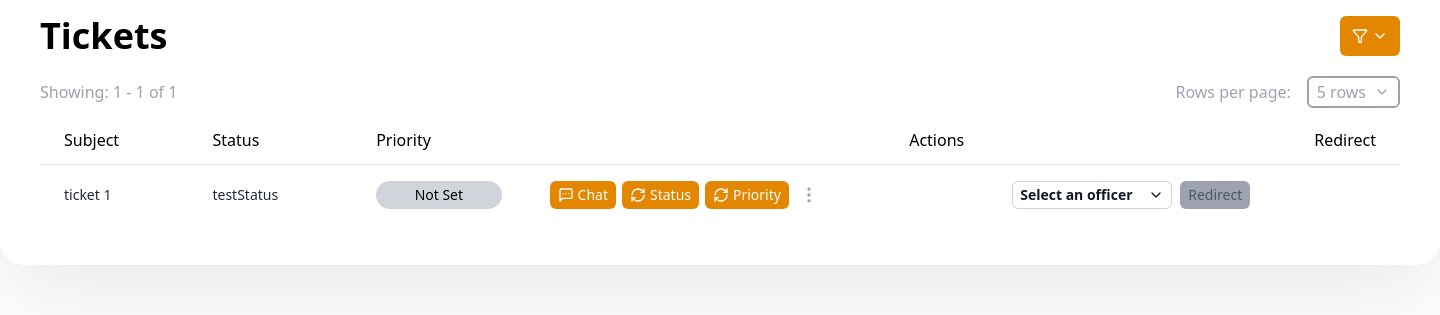
TicketsCard - rendering › Tickets Card should display extra table headings if the user is an officer
Expected: the button "Chat" is shown, top-left (550, 181), bottom-right (616, 209)
Expected: the button with test id "toggle-status" is shown, top-left (622, 181), bottom-right (699, 209)
Note: Open the More Actions dropdown
What coordinates should you click on to do the following:
click the button with test id "more-actions-dropdown"
I would click on:
 (809, 195)
Its box is top-left (795, 181), bottom-right (823, 209).
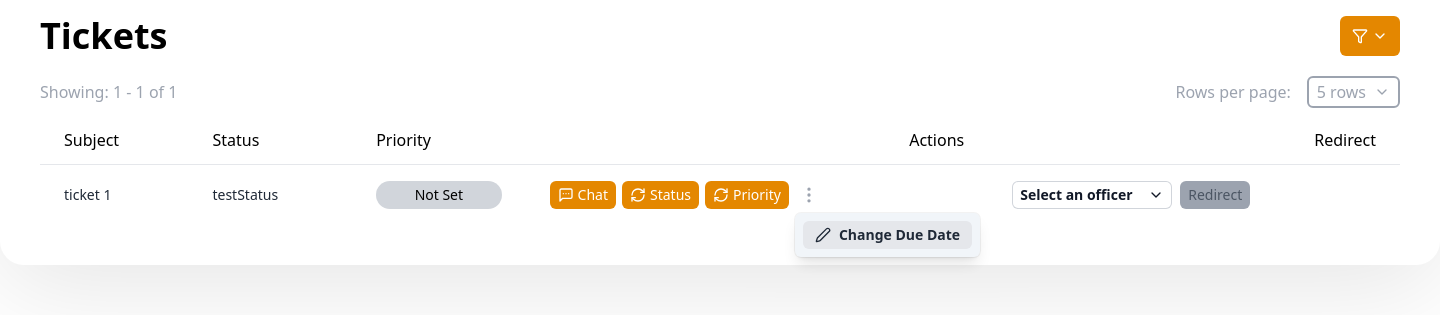
Now the button "Change Due Date" is shown, box top-left (803, 221), bottom-right (972, 249)
